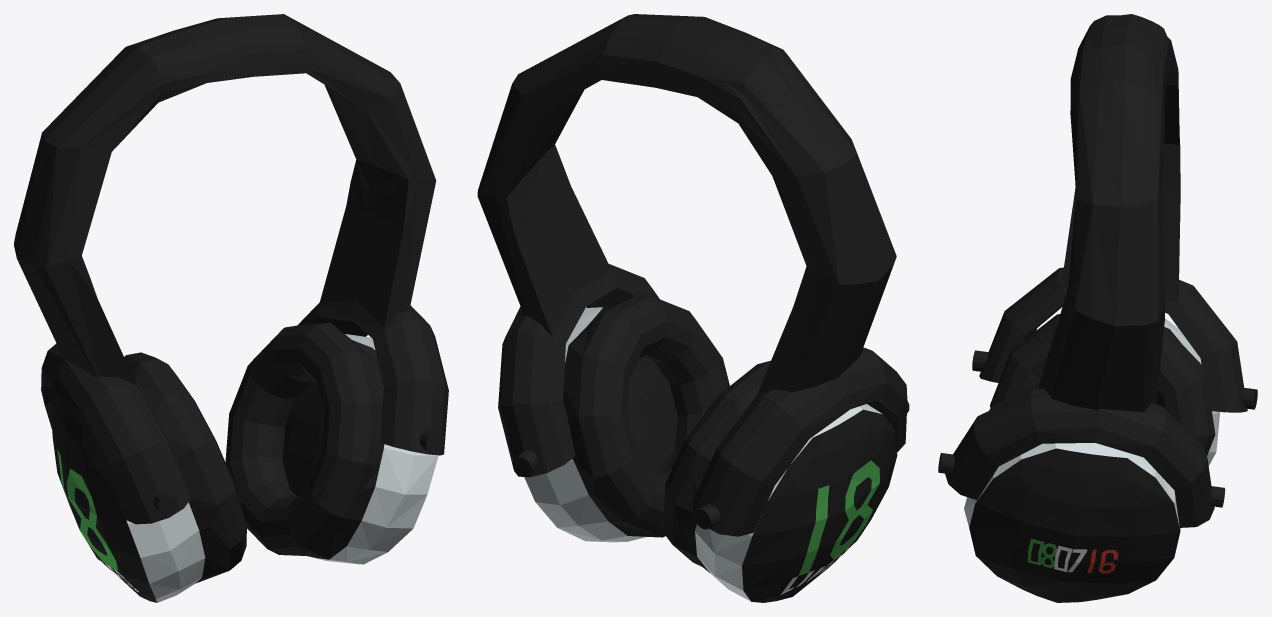
The model's file is time-hotel-2-6-by-s--paul-michael-3olXdIYxnuH.glb.
3 renders of one model, left to right at view 1: azimuth 30°, elevation 25°; view 2: azimuth 150°, elevation 25°; view 3: azimuth 270°, elevation 25°, orthographic. The views are drawn at different scales.
Parts seen in each view (by area): view 1: group621480810, group39033575, group1271815156, group632826317, group142180327, group180501909, group1481977322, group121240005, group1386145330; view 2: group39033575, group621480810, group142180327, group632826317, group1271815156, group180501909, group121240005, group1386145330, group1481977322; view 3: group1386145330, group1271815156, group39033575, group121240005, group180501909, group1481977322, group632826317, group142180327.
Boxes of the visible parts, x1,y1,x2,y2 form: group621480810: (225, 322, 384, 559); group39033575: (42, 14, 400, 151); group1271815156: (319, 83, 436, 328); group632826317: (14, 133, 136, 385); group142180327: (51, 397, 205, 602); group180501909: (41, 343, 191, 524); group1481977322: (124, 352, 246, 583); group121240005: (297, 300, 448, 455); group1386145330: (283, 334, 438, 564); group39033575: (512, 14, 856, 176); group621480810: (563, 294, 729, 537); group142180327: (695, 404, 897, 602); group632826317: (757, 153, 896, 395); group1271815156: (477, 84, 612, 337); group180501909: (692, 347, 907, 536); group121240005: (498, 264, 659, 477); group1386145330: (524, 307, 677, 542); group1481977322: (663, 360, 770, 573); group1386145330: (964, 443, 1180, 602); group1271815156: (1038, 194, 1164, 411); group39033575: (1070, 14, 1178, 206); group121240005: (945, 388, 1214, 527); group180501909: (979, 267, 1247, 412); group1481977322: (990, 314, 1215, 455); group632826317: (1061, 72, 1180, 302); group142180327: (1164, 318, 1219, 465).
Size of the model in its own units: 1.71 by 2.24 by 1.24.
